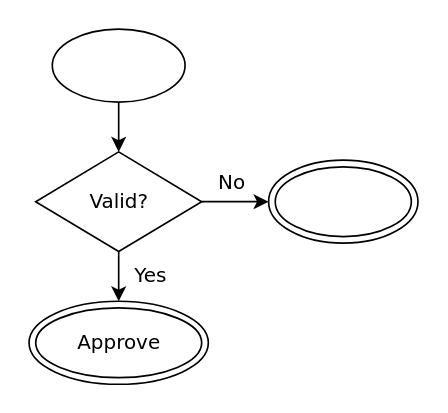
Some shapes in this 448 by 413 pixel diagram are drawn without their labels. Here are the shapes that lost their labels. From the top down, the box of each, then its label:
(51, 27, 185, 102): Enter
(267, 159, 418, 243): Reject
